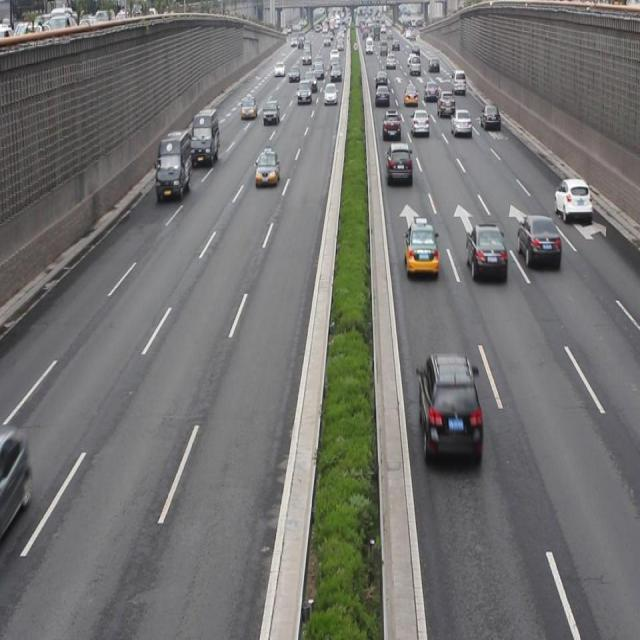car: (417, 351, 481, 460), (466, 221, 507, 284), (516, 212, 559, 268), (403, 220, 438, 277), (552, 174, 591, 218), (254, 147, 281, 187), (382, 108, 402, 142), (450, 107, 471, 136), (479, 102, 500, 131), (410, 107, 430, 137), (262, 98, 279, 126)
truck: (156, 128, 192, 201), (190, 109, 220, 167), (387, 140, 412, 186)
